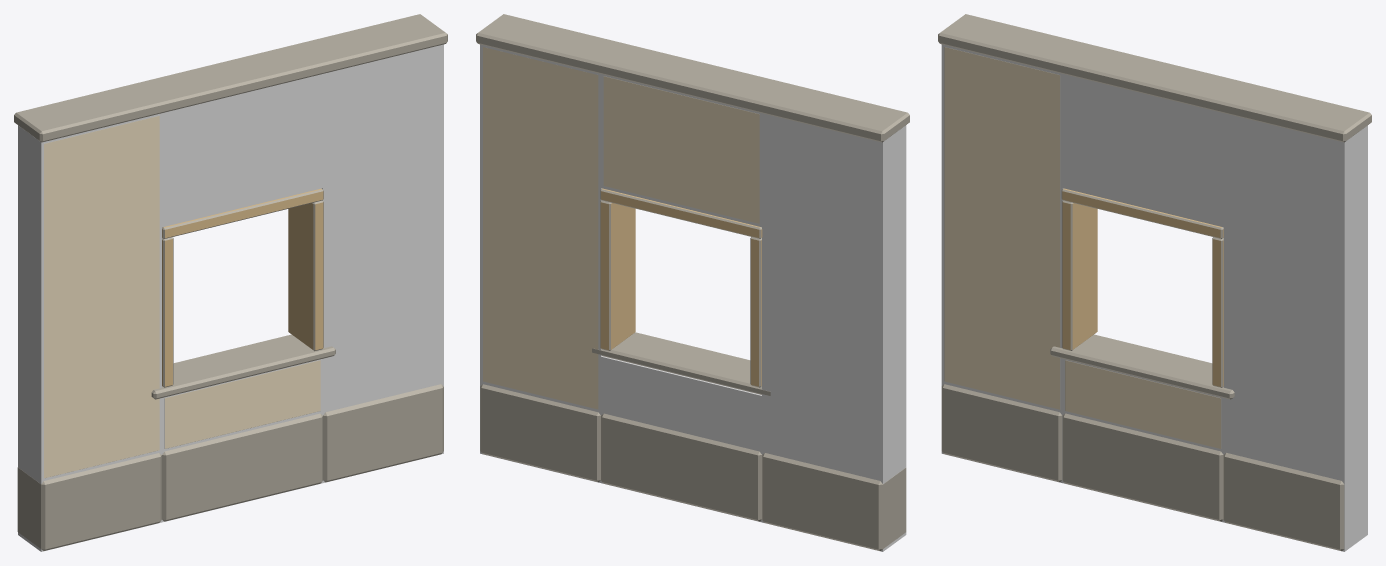
File: bld_wall_window_a.glb
3 views of the same model, side by side, from view 1: azimuth 30°, elevation 25°; view 2: azimuth 150°, elevation 25°; view 3: azimuth 330°, elevation 25° (orthographic).
Visible parts, largest first — view 1: bld_wall_window_a, COL_bld_wall_window_a_2, COL_bld_wall_window_a_4, COL_bld_wall_window_a_1, COL_bld_wall_window_a_3; view 2: bld_wall_window_a, COL_bld_wall_window_a_1, COL_bld_wall_window_a_3, COL_bld_wall_window_a_2, COL_bld_wall_window_a_4; view 3: bld_wall_window_a, COL_bld_wall_window_a_2, COL_bld_wall_window_a_4, COL_bld_wall_window_a_1, COL_bld_wall_window_a_3.
Part boxes in pixels (box(x1,y1,x2,y2)): bld_wall_window_a: box(14, 14, 447, 550); COL_bld_wall_window_a_2: box(322, 44, 443, 482); COL_bld_wall_window_a_4: box(162, 74, 322, 227); COL_bld_wall_window_a_1: box(18, 113, 161, 551); COL_bld_wall_window_a_3: box(162, 359, 322, 522); bld_wall_window_a: box(476, 14, 909, 551); COL_bld_wall_window_a_1: box(762, 113, 906, 551); COL_bld_wall_window_a_3: box(601, 356, 761, 522); COL_bld_wall_window_a_2: box(480, 44, 601, 482); COL_bld_wall_window_a_4: box(601, 74, 761, 227); bld_wall_window_a: box(938, 14, 1371, 550); COL_bld_wall_window_a_2: box(1223, 113, 1367, 551); COL_bld_wall_window_a_4: box(1062, 74, 1223, 227); COL_bld_wall_window_a_1: box(941, 44, 1063, 482); COL_bld_wall_window_a_3: box(1062, 359, 1223, 522).
Bounding box in the file's own units: 3.04 × 3 × 0.3701.
